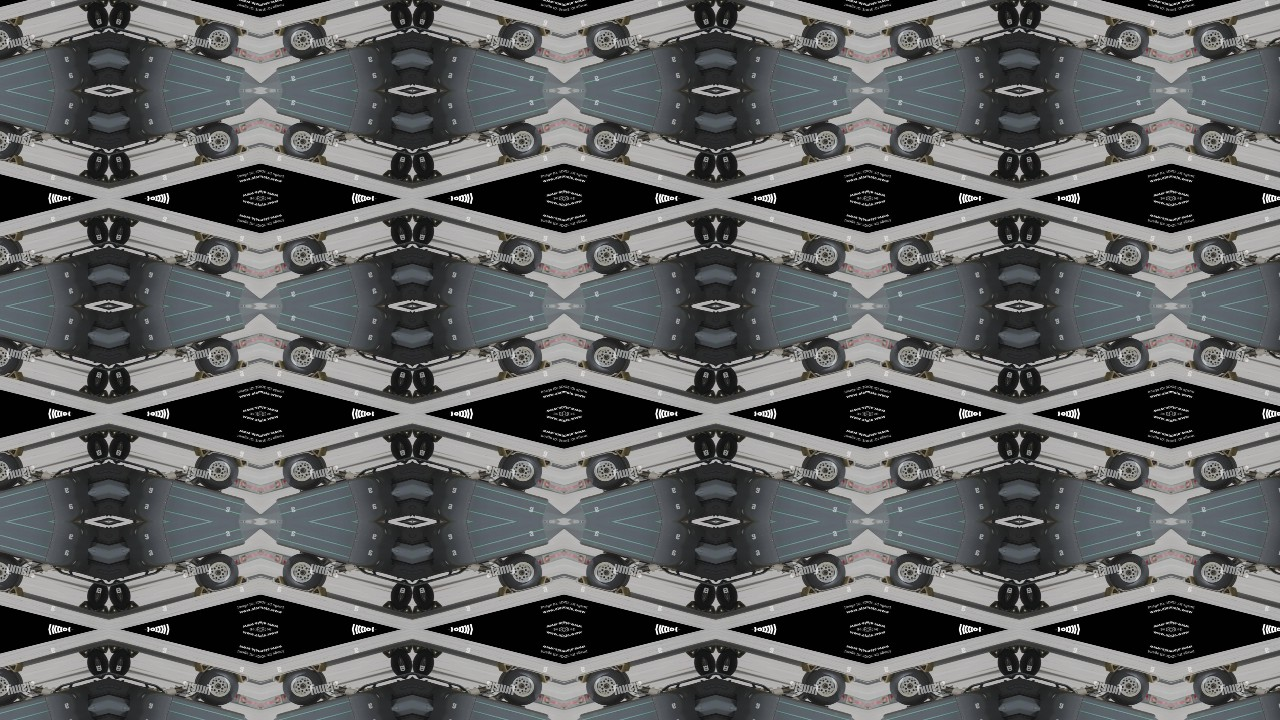chock: (232, 25, 250, 38), (270, 25, 288, 38), (536, 25, 554, 38), (574, 25, 592, 38), (840, 25, 858, 38), (878, 25, 896, 38), (1144, 25, 1162, 38), (1182, 25, 1200, 38), (232, 142, 250, 155), (270, 142, 288, 155), (536, 142, 554, 155), (574, 142, 592, 155), (840, 142, 858, 155), (878, 142, 896, 155), (1144, 142, 1162, 155), (1182, 142, 1200, 155), (232, 241, 250, 254), (270, 241, 288, 254), (536, 241, 554, 254), (574, 241, 592, 254), (840, 241, 858, 254), (878, 241, 896, 254), (1144, 241, 1162, 254), (1182, 241, 1200, 254), (232, 358, 250, 371), (270, 358, 288, 371), (536, 358, 554, 371), (574, 358, 592, 371), (840, 358, 858, 371), (878, 358, 896, 371), (1144, 358, 1162, 371), (1182, 358, 1200, 371), (232, 457, 250, 470), (270, 457, 288, 470), (536, 457, 554, 470), (574, 457, 592, 470), (840, 457, 858, 470), (878, 457, 896, 470), (1144, 457, 1162, 470), (1182, 457, 1200, 470), (232, 574, 250, 587), (270, 574, 288, 587), (536, 574, 554, 587), (574, 574, 592, 587), (840, 574, 858, 587), (878, 574, 896, 587), (1144, 574, 1162, 587), (1182, 574, 1200, 587), (232, 673, 250, 686), (270, 673, 288, 686), (536, 673, 554, 686), (574, 673, 592, 686), (840, 673, 858, 686), (878, 673, 896, 686), (1144, 673, 1162, 686), (1182, 673, 1200, 686), (6, 15, 24, 27), (192, 15, 210, 27), (310, 15, 328, 27), (496, 15, 514, 27), (614, 15, 632, 27), (800, 15, 818, 27), (918, 15, 936, 27), (1104, 15, 1122, 27), (1222, 15, 1240, 27), (6, 153, 24, 165), (192, 153, 210, 165), (310, 153, 328, 165), (496, 153, 514, 165), (614, 153, 632, 165), (800, 153, 818, 165), (918, 153, 936, 165), (1104, 153, 1122, 165), (1222, 153, 1240, 165), (6, 231, 24, 243), (192, 231, 210, 243), (310, 231, 328, 243), (496, 231, 514, 243), (614, 231, 632, 243), (800, 231, 818, 243), (918, 231, 936, 243), (1104, 231, 1122, 243), (1222, 231, 1240, 243), (6, 369, 24, 381), (192, 369, 210, 381), (310, 369, 328, 381), (496, 369, 514, 381), (614, 369, 632, 381), (800, 369, 818, 381), (918, 369, 936, 381), (1104, 369, 1122, 381), (1222, 369, 1240, 381), (6, 447, 24, 459), (192, 447, 210, 459), (310, 447, 328, 459), (496, 447, 514, 459), (614, 447, 632, 459), (800, 447, 818, 459), (918, 447, 936, 459), (1104, 447, 1122, 459), (1222, 447, 1240, 459), (6, 585, 24, 597), (192, 585, 210, 597), (310, 585, 328, 597), (496, 585, 514, 597), (614, 585, 632, 597), (800, 585, 818, 597), (918, 585, 936, 597), (1104, 585, 1122, 597), (1222, 585, 1240, 597), (6, 663, 24, 675), (192, 663, 210, 675), (310, 663, 328, 675), (496, 663, 514, 675), (614, 663, 632, 675), (800, 663, 818, 675), (918, 663, 936, 675), (1104, 663, 1122, 675), (1222, 663, 1240, 675), (77, 1, 93, 13), (123, 1, 139, 13), (381, 1, 397, 13), (427, 1, 443, 13), (685, 1, 701, 13), (731, 1, 747, 13), (989, 1, 1005, 13), (1035, 1, 1051, 13), (77, 167, 93, 179), (123, 167, 139, 179), (381, 167, 397, 179), (427, 167, 443, 179), (685, 167, 701, 179), (731, 167, 747, 179), (989, 167, 1005, 179), (1035, 167, 1051, 179), (77, 217, 93, 229), (123, 217, 139, 229), (381, 217, 397, 229), (427, 217, 443, 229), (685, 217, 701, 229), (731, 217, 747, 229), (989, 217, 1005, 229), (1035, 217, 1051, 229), (77, 383, 93, 395), (123, 383, 139, 395), (381, 383, 397, 395), (427, 383, 443, 395), (685, 383, 701, 395), (731, 383, 747, 395), (989, 383, 1005, 395), (1035, 383, 1051, 395), (77, 433, 93, 445), (123, 433, 139, 445), (381, 433, 397, 445), (427, 433, 443, 445), (685, 433, 701, 445), (731, 433, 747, 445), (989, 433, 1005, 445), (1035, 433, 1051, 445), (77, 599, 93, 611), (123, 599, 139, 611), (381, 599, 397, 611), (427, 599, 443, 611), (685, 599, 701, 611), (731, 599, 747, 611), (989, 599, 1005, 611), (1035, 599, 1051, 611), (77, 649, 93, 661), (123, 649, 139, 661), (381, 649, 397, 661), (427, 649, 443, 661), (685, 649, 701, 661), (731, 649, 747, 661), (989, 649, 1005, 661), (1035, 649, 1051, 661), (94, 172, 108, 183), (108, 172, 122, 183), (398, 172, 412, 183), (412, 172, 426, 183), (702, 172, 716, 183), (716, 172, 730, 183), (1006, 172, 1020, 183), (1020, 172, 1034, 183), (94, 213, 108, 224), (108, 213, 122, 224), (398, 213, 412, 224), (412, 213, 426, 224), (702, 213, 716, 224), (716, 213, 730, 224), (1006, 213, 1020, 224), (1020, 213, 1034, 224), (94, 388, 108, 399), (108, 388, 122, 399), (398, 388, 412, 399), (412, 388, 426, 399), (702, 388, 716, 399), (716, 388, 730, 399), (1006, 388, 1020, 399), (1020, 388, 1034, 399), (94, 429, 108, 440), (108, 429, 122, 440), (398, 429, 412, 440), (412, 429, 426, 440), (702, 429, 716, 440), (716, 429, 730, 440), (1006, 429, 1020, 440), (1020, 429, 1034, 440), (94, 604, 108, 615), (108, 604, 122, 615), (398, 604, 412, 615), (412, 604, 426, 615), (702, 604, 716, 615), (716, 604, 730, 615), (1006, 604, 1020, 615), (1020, 604, 1034, 615), (94, 645, 108, 656), (108, 645, 122, 656), (398, 645, 412, 656), (412, 645, 426, 656), (702, 645, 716, 656), (716, 645, 730, 656), (1006, 645, 1020, 656), (1020, 645, 1034, 656), (94, 0, 108, 8), (108, 0, 122, 8), (398, 0, 412, 8), (412, 0, 426, 8), (702, 0, 716, 8), (716, 0, 730, 8), (1006, 0, 1020, 8), (1020, 0, 1034, 8)
wheel: (190, 18, 241, 63), (279, 18, 330, 63), (494, 18, 545, 63), (583, 18, 634, 63), (798, 18, 849, 63), (887, 18, 938, 63), (1102, 18, 1153, 63), (1191, 18, 1242, 63), (190, 117, 241, 162), (279, 117, 330, 162), (494, 117, 545, 162), (583, 117, 634, 162), (798, 117, 849, 162), (887, 117, 938, 162), (1102, 117, 1153, 162), (1191, 117, 1242, 162), (190, 234, 241, 279), (279, 234, 330, 279), (494, 234, 545, 279), (583, 234, 634, 279), (798, 234, 849, 279), (887, 234, 938, 279), (1102, 234, 1153, 279), (1191, 234, 1242, 279), (190, 333, 241, 378), (279, 333, 330, 378), (494, 333, 545, 378), (583, 333, 634, 378), (798, 333, 849, 378), (887, 333, 938, 378), (1102, 333, 1153, 378), (1191, 333, 1242, 378), (190, 450, 241, 495), (279, 450, 330, 495), (494, 450, 545, 495), (583, 450, 634, 495), (798, 450, 849, 495), (887, 450, 938, 495), (1102, 450, 1153, 495), (1191, 450, 1242, 495), (190, 549, 241, 594), (279, 549, 330, 594), (494, 549, 545, 594), (583, 549, 634, 594), (798, 549, 849, 594), (887, 549, 938, 594), (1102, 549, 1153, 594), (1191, 549, 1242, 594), (190, 666, 241, 711), (279, 666, 330, 711), (494, 666, 545, 711), (583, 666, 634, 711), (798, 666, 849, 711), (887, 666, 938, 711), (1102, 666, 1153, 711), (1191, 666, 1242, 711), (0, 18, 26, 63), (0, 117, 26, 162), (0, 234, 26, 279), (0, 333, 26, 378), (0, 450, 26, 495), (0, 549, 26, 594), (0, 666, 26, 711), (82, 2, 99, 31), (117, 2, 134, 31), (386, 2, 403, 31), (421, 2, 438, 31), (690, 2, 707, 31), (725, 2, 742, 31), (994, 2, 1011, 31), (1029, 2, 1046, 31), (82, 149, 99, 178), (117, 149, 134, 178), (386, 149, 403, 178), (421, 149, 438, 178), (690, 149, 707, 178), (725, 149, 742, 178), (994, 149, 1011, 178), (1029, 149, 1046, 178), (82, 218, 99, 247), (117, 218, 134, 247), (386, 218, 403, 247), (421, 218, 438, 247), (690, 218, 707, 247), (725, 218, 742, 247), (994, 218, 1011, 247), (1029, 218, 1046, 247), (82, 365, 99, 394), (117, 365, 134, 394), (386, 365, 403, 394), (421, 365, 438, 394), (690, 365, 707, 394), (725, 365, 742, 394), (994, 365, 1011, 394), (1029, 365, 1046, 394), (82, 434, 99, 463), (117, 434, 134, 463), (386, 434, 403, 463), (421, 434, 438, 463), (690, 434, 707, 463), (725, 434, 742, 463), (994, 434, 1011, 463), (1029, 434, 1046, 463), (82, 581, 99, 610), (117, 581, 134, 610), (386, 581, 403, 610), (421, 581, 438, 610), (690, 581, 707, 610), (725, 581, 742, 610), (994, 581, 1011, 610), (1029, 581, 1046, 610), (82, 650, 99, 679), (117, 650, 134, 679), (386, 650, 403, 679), (421, 650, 438, 679), (690, 650, 707, 679), (725, 650, 742, 679), (994, 650, 1011, 679), (1029, 650, 1046, 679), (93, 152, 108, 181), (108, 152, 123, 181), (397, 152, 412, 181), (412, 152, 427, 181), (701, 152, 716, 181), (716, 152, 731, 181), (1005, 152, 1020, 181), (1020, 152, 1035, 181), (93, 215, 108, 244), (108, 215, 123, 244), (397, 215, 412, 244), (412, 215, 427, 244), (701, 215, 716, 244), (716, 215, 731, 244), (1005, 215, 1020, 244), (1020, 215, 1035, 244), (93, 368, 108, 397), (108, 368, 123, 397), (397, 368, 412, 397), (412, 368, 427, 397), (701, 368, 716, 397), (716, 368, 731, 397), (1005, 368, 1020, 397), (1020, 368, 1035, 397), (93, 431, 108, 460), (108, 431, 123, 460), (397, 431, 412, 460), (412, 431, 427, 460), (701, 431, 716, 460), (716, 431, 731, 460), (1005, 431, 1020, 460), (1020, 431, 1035, 460), (93, 584, 108, 613), (108, 584, 123, 613), (397, 584, 412, 613), (412, 584, 427, 613), (701, 584, 716, 613), (716, 584, 731, 613), (1005, 584, 1020, 613), (1020, 584, 1035, 613), (93, 647, 108, 676), (108, 647, 123, 676), (397, 647, 412, 676), (412, 647, 427, 676), (701, 647, 716, 676), (716, 647, 731, 676), (1005, 647, 1020, 676), (1020, 647, 1035, 676), (93, 0, 108, 28), (108, 0, 123, 28), (397, 0, 412, 28), (412, 0, 427, 28), (701, 0, 716, 28), (716, 0, 731, 28), (1005, 0, 1020, 28), (1020, 0, 1035, 28)
